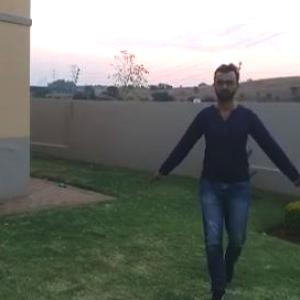land: (149, 52, 299, 299)
